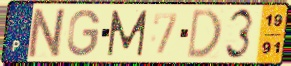3: (222, 8, 260, 61)
7: (151, 12, 179, 55)
D: (185, 7, 224, 60)
G: (66, 8, 103, 58)
M: (105, 9, 150, 58)
N: (26, 6, 71, 59)
